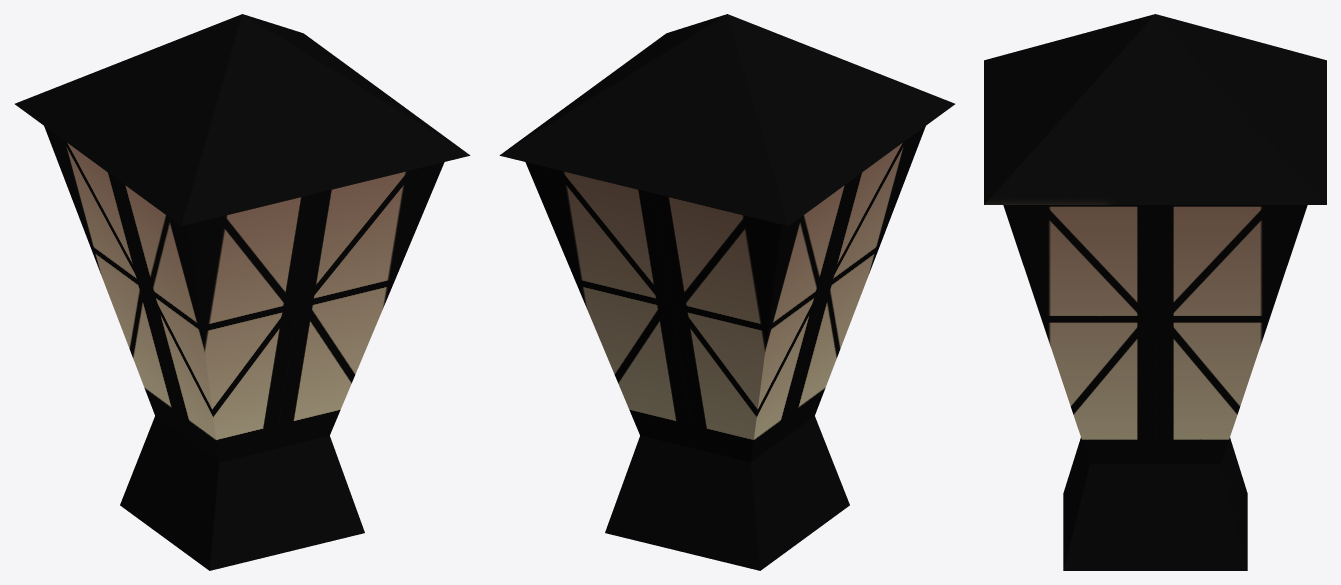
File: WarmLantern.fbx
The picture shows the model from 3 angles, left to right: view 1: azimuth 30°, elevation 25°; view 2: azimuth 150°, elevation 25°; view 3: azimuth 270°, elevation 25°; orthographic projection. The views are drawn at different scales.
Visible parts, largest first — view 1: Cube; view 2: Cube; view 3: Cube.
Boxes of the visible parts, box(x1,y1,x2,y2) form: Cube: box(15, 14, 470, 570); Cube: box(499, 14, 954, 570); Cube: box(984, 14, 1326, 570).
Bounding box in the file's own units: 219 × 365 × 219.
